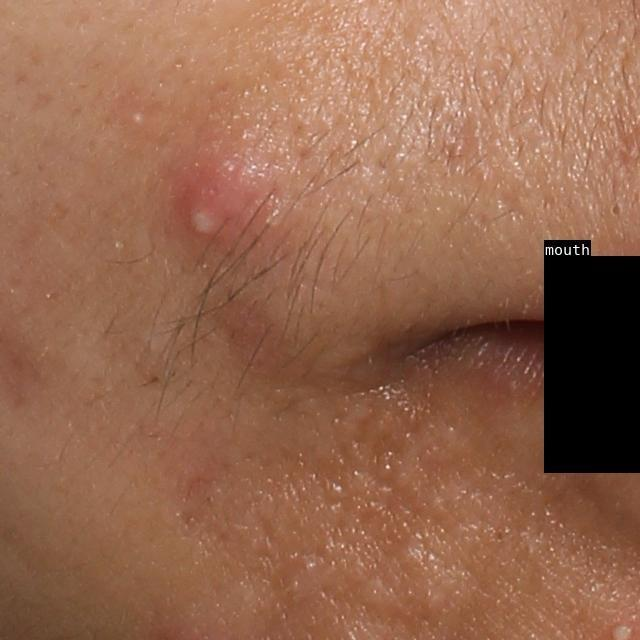comedo: (608, 196, 626, 224)
pustule: (176, 153, 278, 268), (127, 108, 147, 129)
